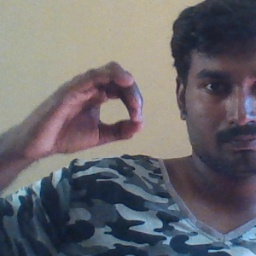O: (24, 57, 147, 151)
